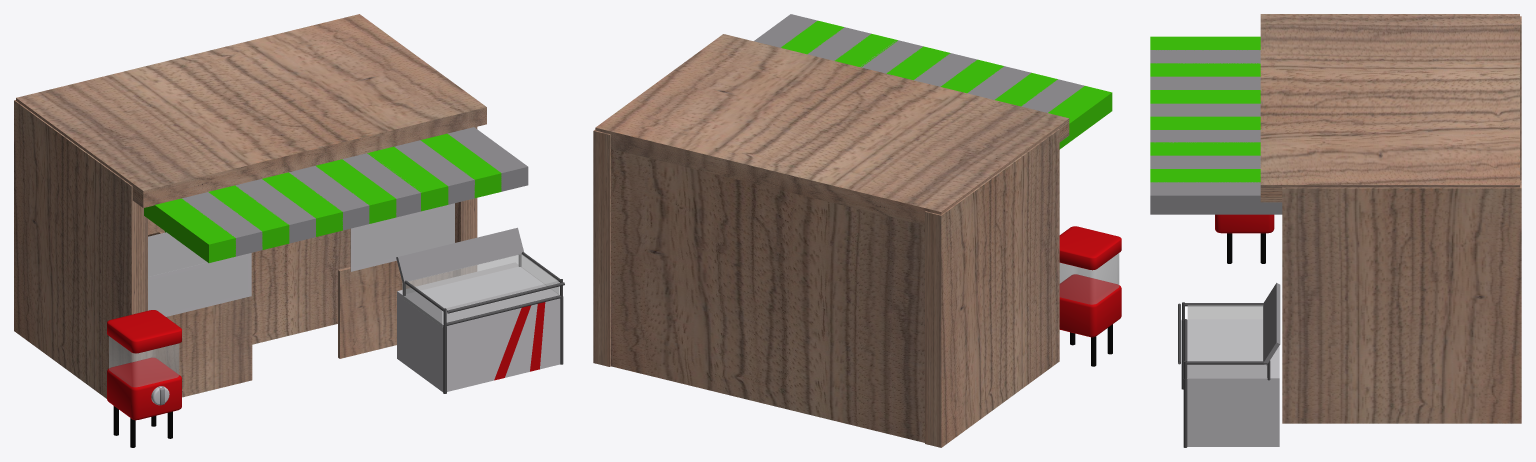
File: PopStore2.fbx
3 views of the same model, side by side, from view 1: azimuth 30°, elevation 25°; view 2: azimuth 150°, elevation 25°; view 3: azimuth 270°, elevation 25° (orthographic).
Visible parts, largest first — view 1: obj3, obj2, obj4, obj13, obj18, obj28, obj16, obj15, obj8, obj12, obj7, obj14 (+1 smaller); view 2: obj1, obj3, obj2, obj4, obj8, obj12, obj7; view 3: obj2, obj3, obj4, obj13, obj8, obj11.
Boxes of the visible parts, box(x1,y1,x2,y2) form: obj3: box(16, 14, 486, 207); obj2: box(14, 100, 477, 398); obj4: box(144, 127, 528, 262); obj13: box(396, 227, 564, 393); obj18: box(338, 203, 454, 358); obj28: box(148, 228, 350, 344); obj16: box(148, 292, 252, 397); obj15: box(148, 254, 251, 316); obj8: box(107, 357, 181, 420); obj12: box(109, 336, 179, 387); obj7: box(107, 310, 181, 353); obj14: box(148, 232, 251, 280); obj1: box(611, 149, 924, 442); obj3: box(595, 34, 1069, 225); obj2: box(593, 129, 1059, 447); obj4: box(754, 14, 1112, 149); obj8: box(1059, 274, 1121, 337); obj12: box(1059, 253, 1119, 304); obj7: box(1059, 226, 1121, 270); obj2: box(1282, 16, 1521, 423); obj3: box(1260, 14, 1519, 202); obj4: box(1150, 36, 1282, 214); obj13: box(1178, 283, 1280, 447); obj8: box(1215, 214, 1274, 233); obj11: box(1227, 233, 1265, 263).
Bounding box in the file's own units: 378 × 208 × 288.
